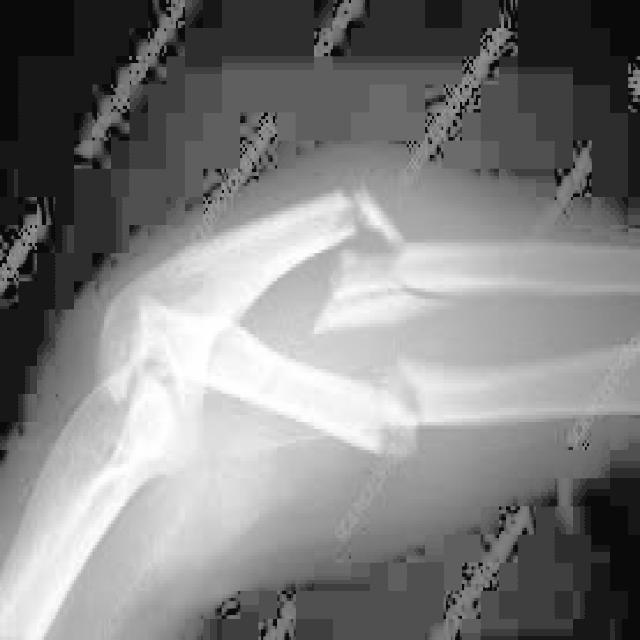Comminuted Fracture: (285, 179, 438, 361), (290, 357, 463, 481)
